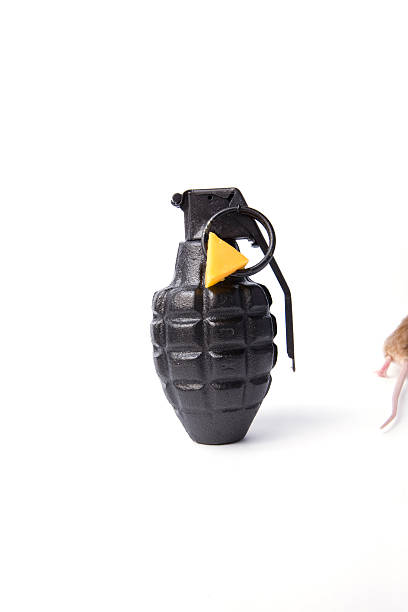e1: (153, 188, 298, 447)
